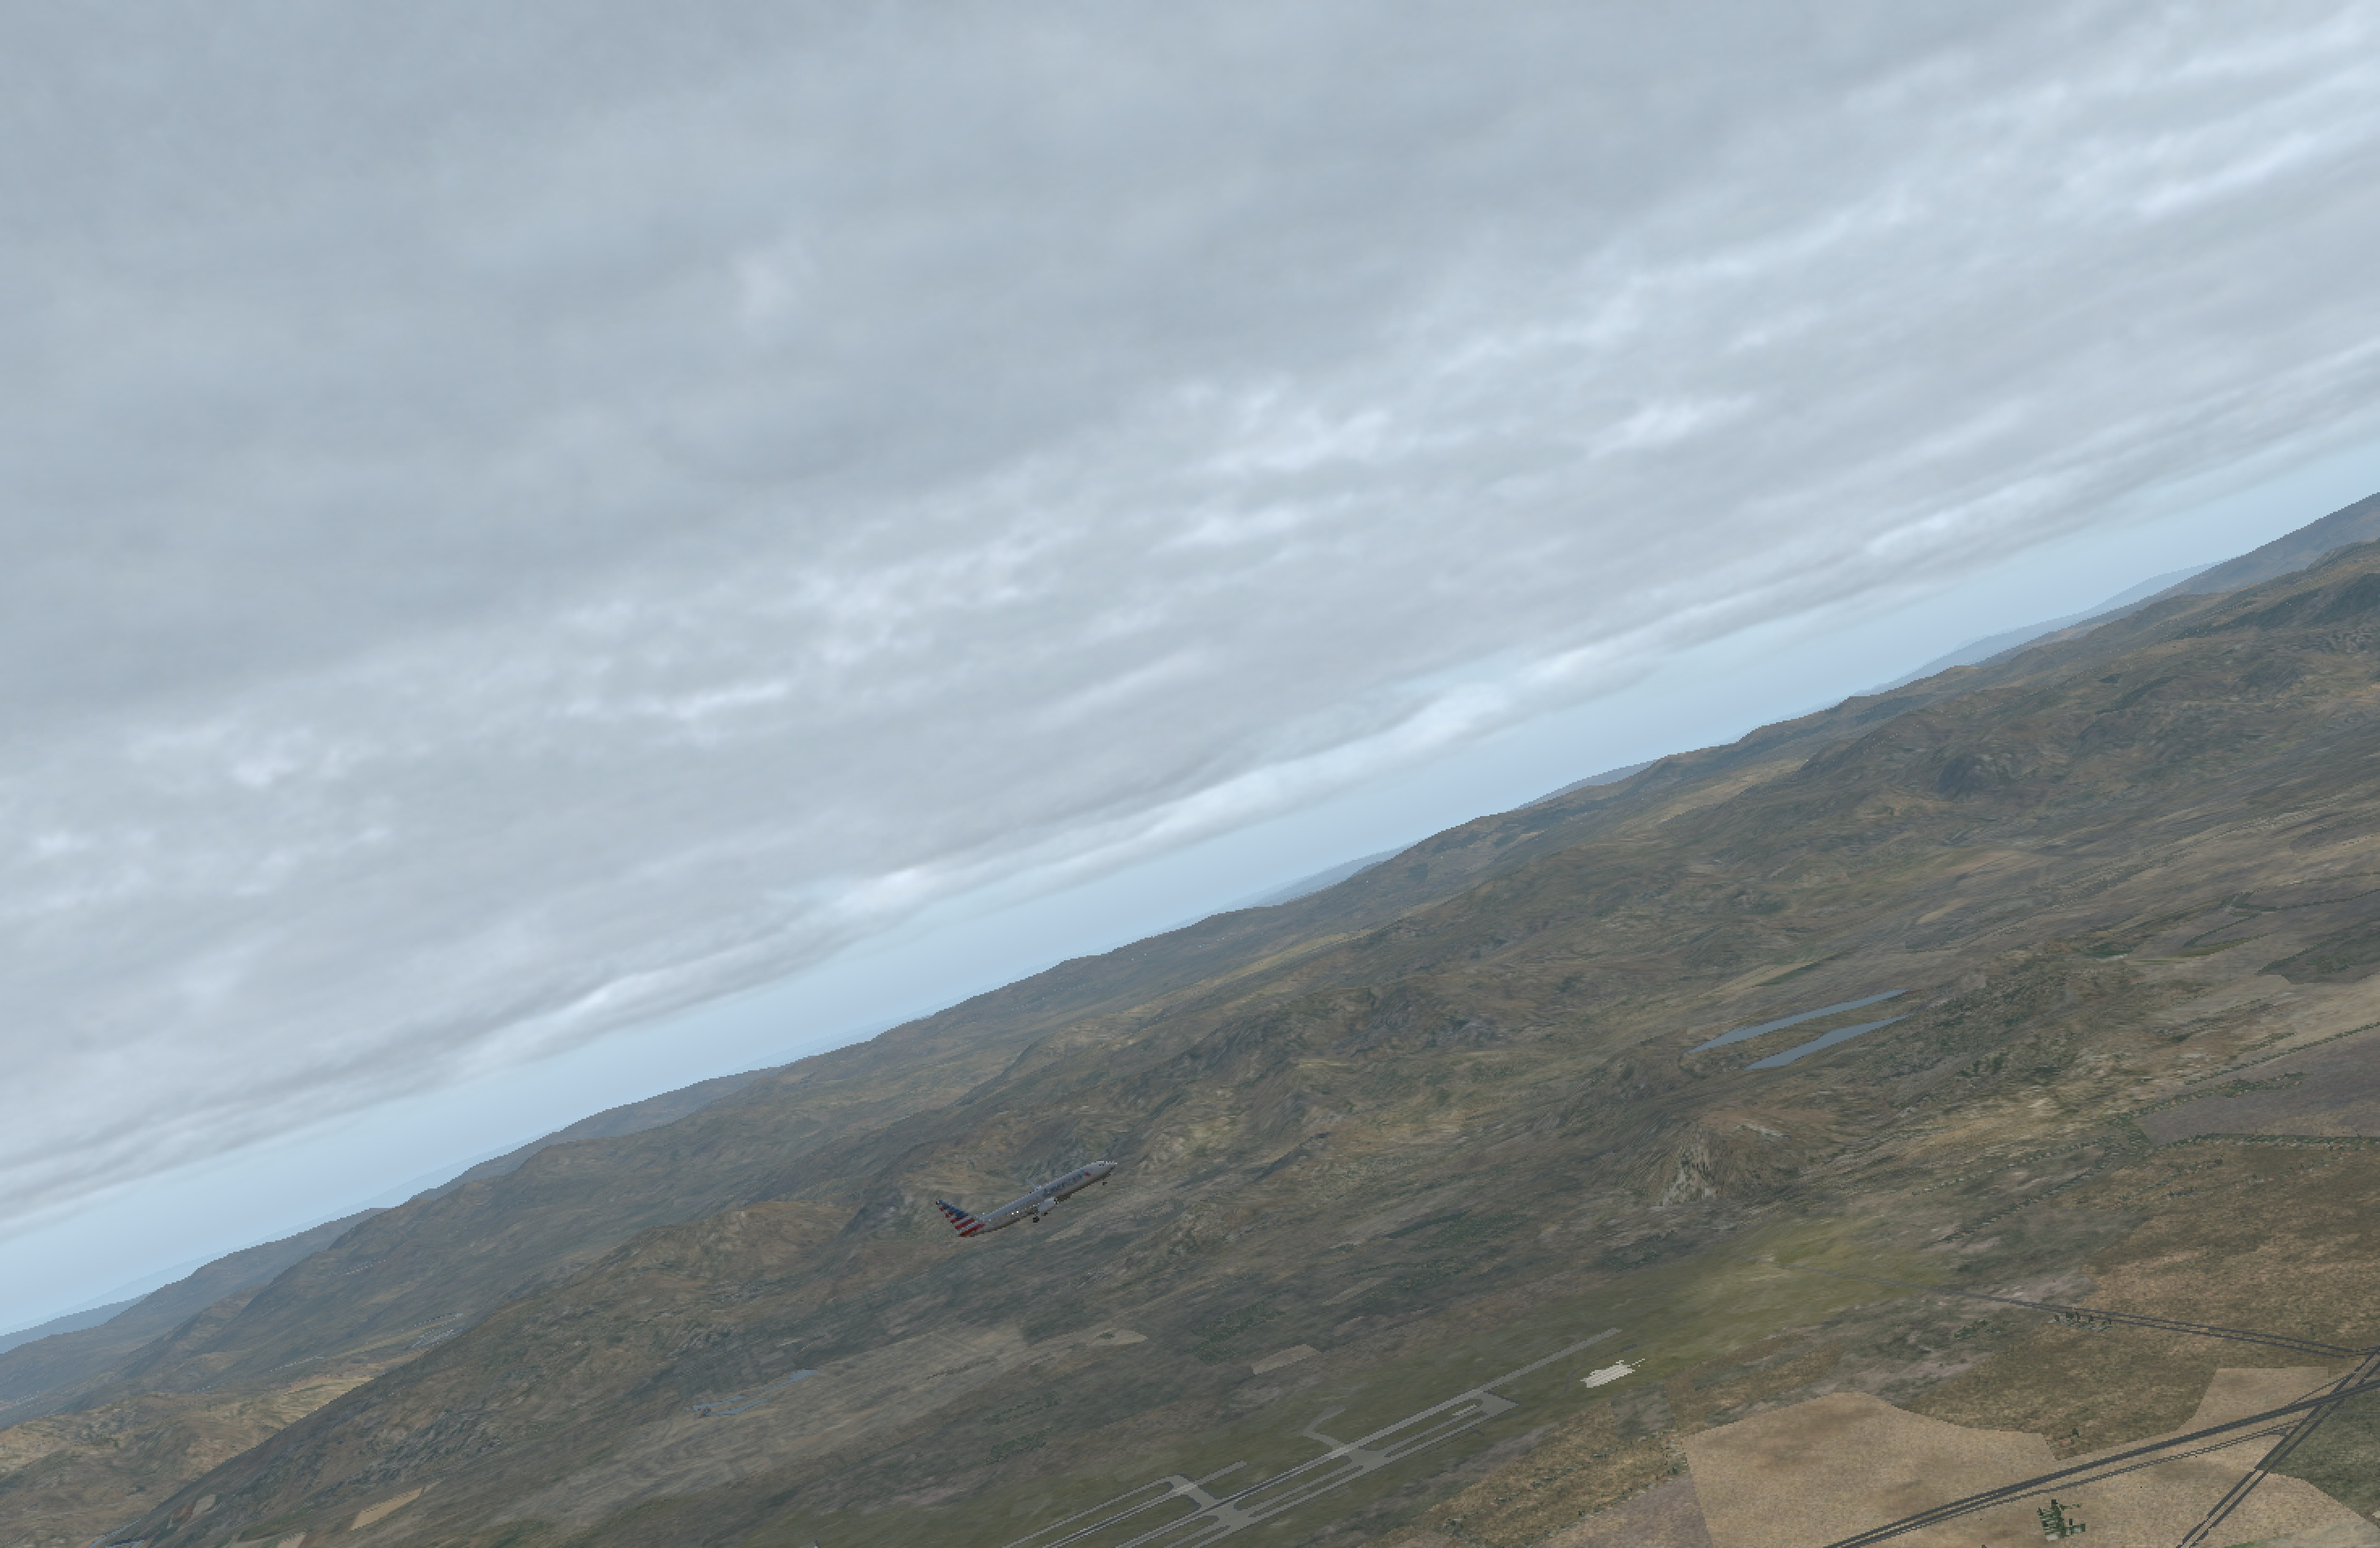aircraft: (947, 1166, 1134, 1237)
